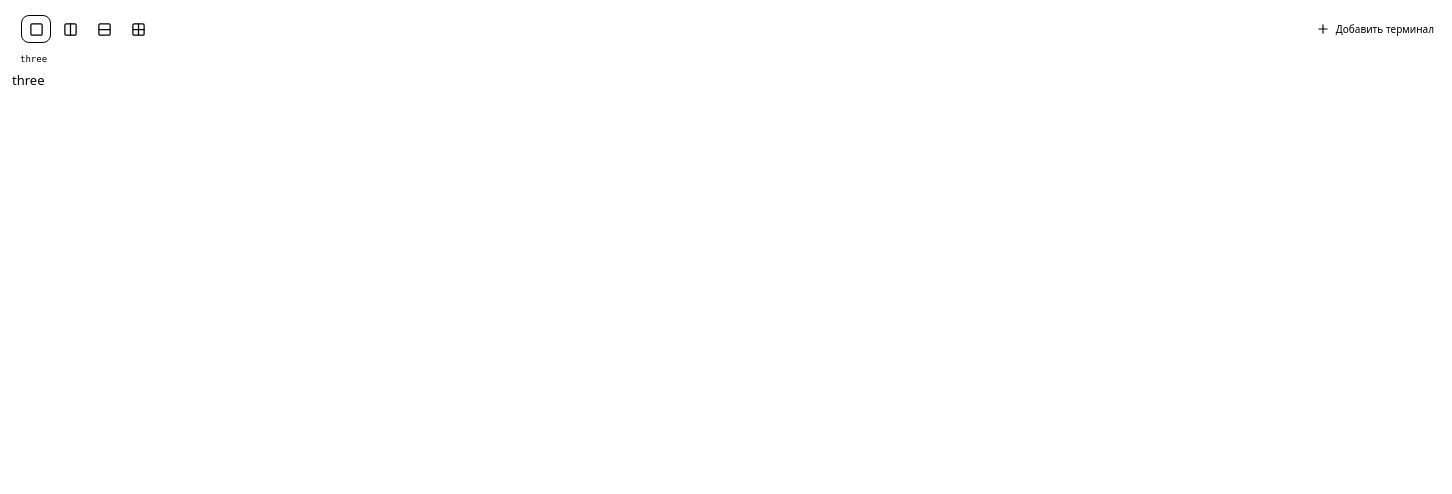
exposes named layout presets with selected state and resizes existing panes
Click the button named "Две панели сверху и снизу": [104, 29] box [89,15,119,43]
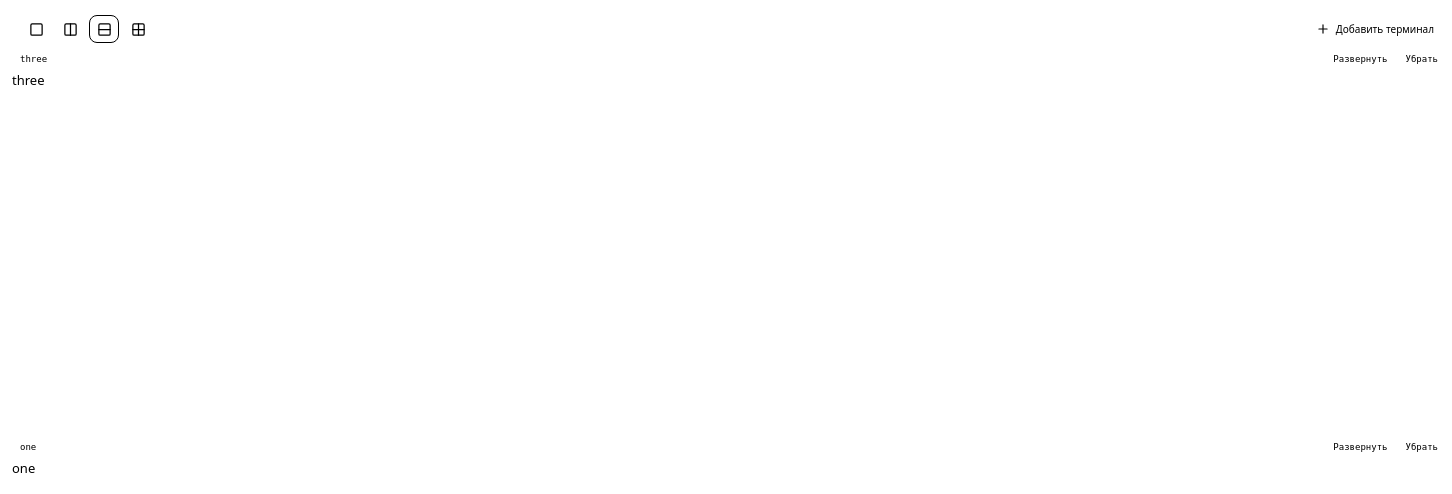
Check: the number of elements with class "split-session" is 2, box [12,440,1444,477]; [12,52,1444,89]
Click the button named "Четыре панели": [138, 29] box [123,15,153,43]
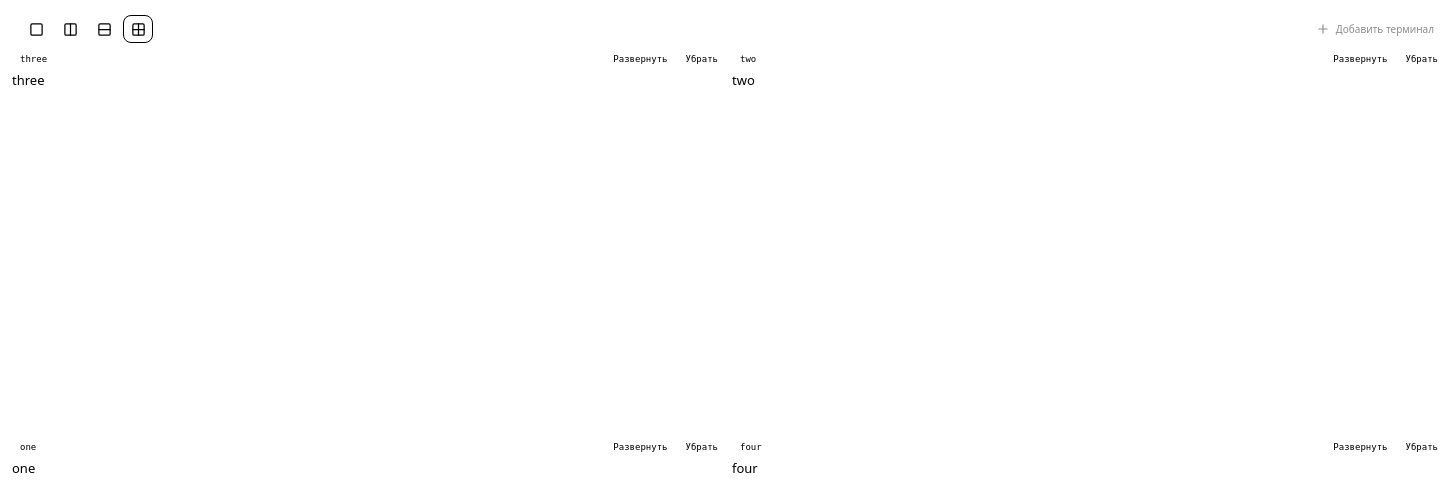
Check: the number of elements with class "split-session" is 4, box [12,440,724,477]; [732,52,1444,89]; [12,52,724,89]; [732,440,1444,477]
